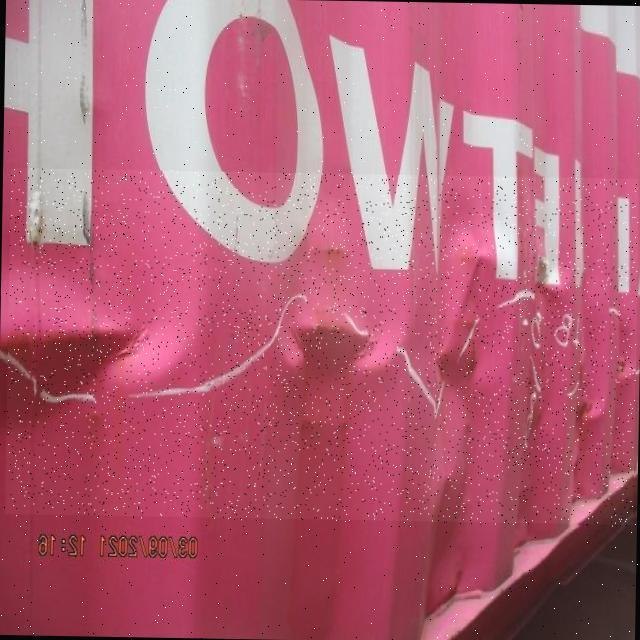dent: (6, 169, 640, 528)
